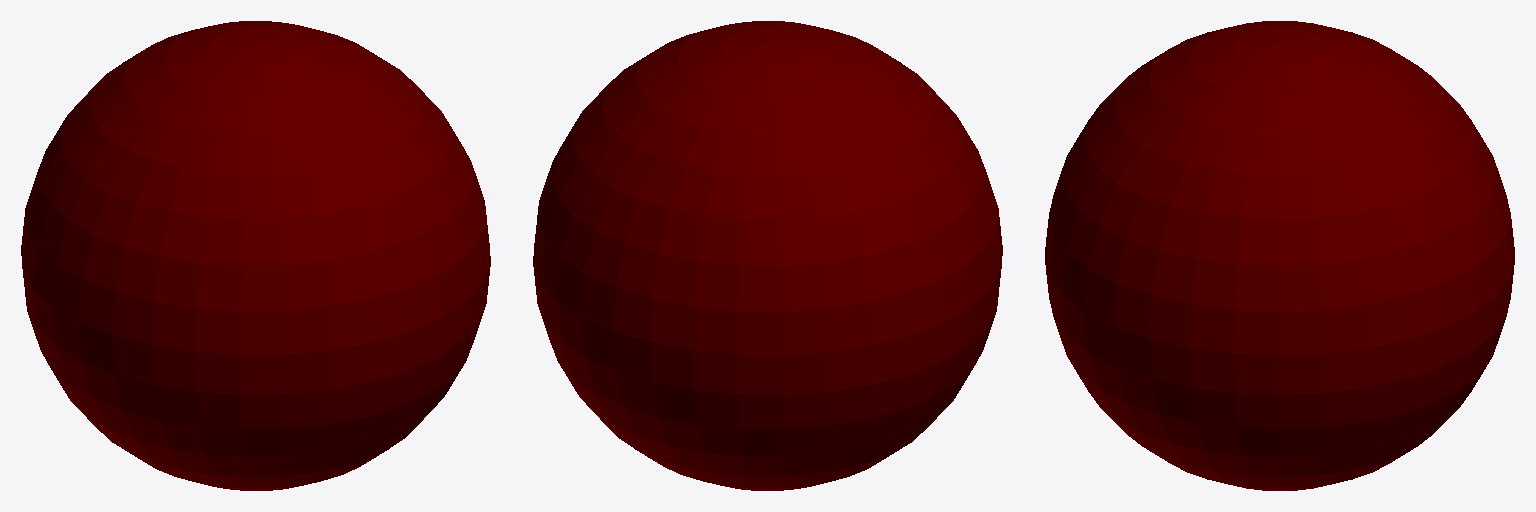
Rendered from EnemyBullet.obj.
3 views of the same model, side by side, from view 1: azimuth 30°, elevation 25°; view 2: azimuth 150°, elevation 25°; view 3: azimuth 270°, elevation 25° (orthographic).
Parts seen in each view (by area): view 1: 球; view 2: 球; view 3: 球.
Boxes of the visible parts, x1=… form: 球: x1=21, y1=21, x2=490, y2=490; 球: x1=533, y1=21, x2=1002, y2=490; 球: x1=1045, y1=21, x2=1514, y2=490.
Size of the model in its own units: 0.5942 by 0.5942 by 0.5942.